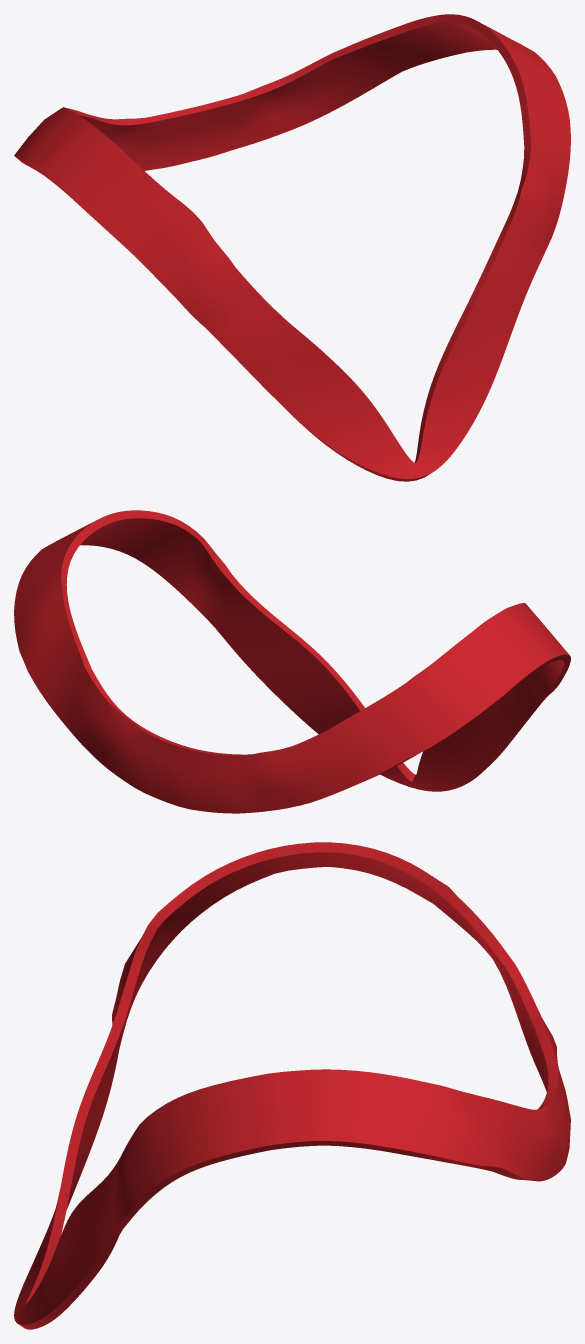
Rendered from WornMedal_Ribbon_Fat.glb.
The picture shows the model from 3 angles, top to bottom: view 1: azimuth 30°, elevation 25°; view 2: azimuth 150°, elevation 25°; view 3: azimuth 270°, elevation 25°; orthographic projection. The views are drawn at different scales.
Visible parts, largest first — view 1: WornMedal_Ribbon_Fat; view 2: WornMedal_Ribbon_Fat; view 3: WornMedal_Ribbon_Fat.
Part boxes in pixels (x1=…): WornMedal_Ribbon_Fat: x1=14, y1=14, x2=570, y2=481; WornMedal_Ribbon_Fat: x1=14, y1=510, x2=570, y2=813; WornMedal_Ribbon_Fat: x1=14, y1=842, x2=570, y2=1329.
Size of the model in its own units: 1.65 by 0.9951 by 1.37.
